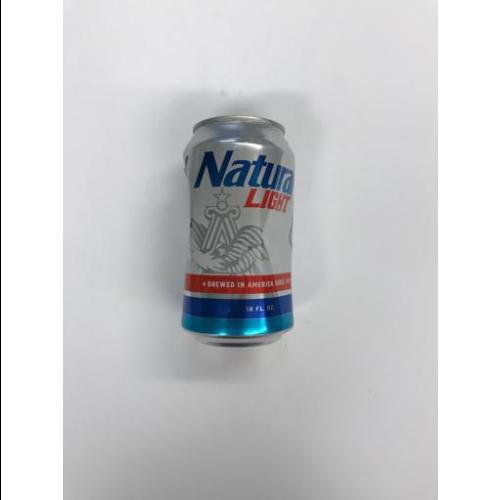metal: (187, 117, 293, 342)
